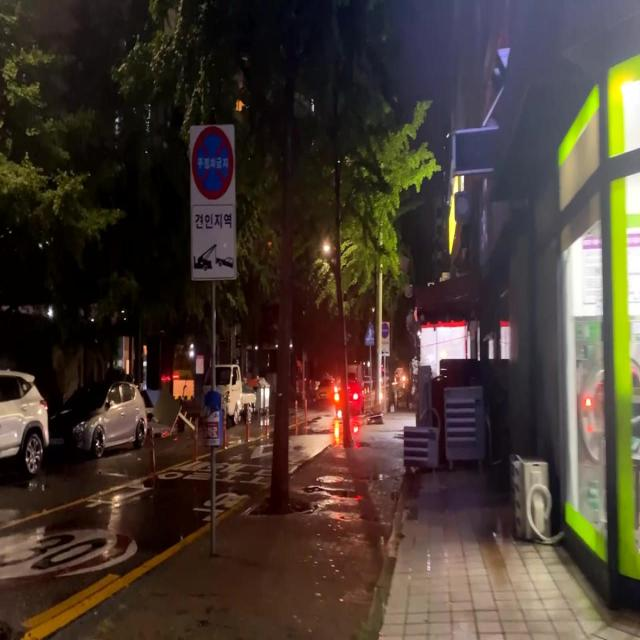Car: (51, 384, 150, 445)
